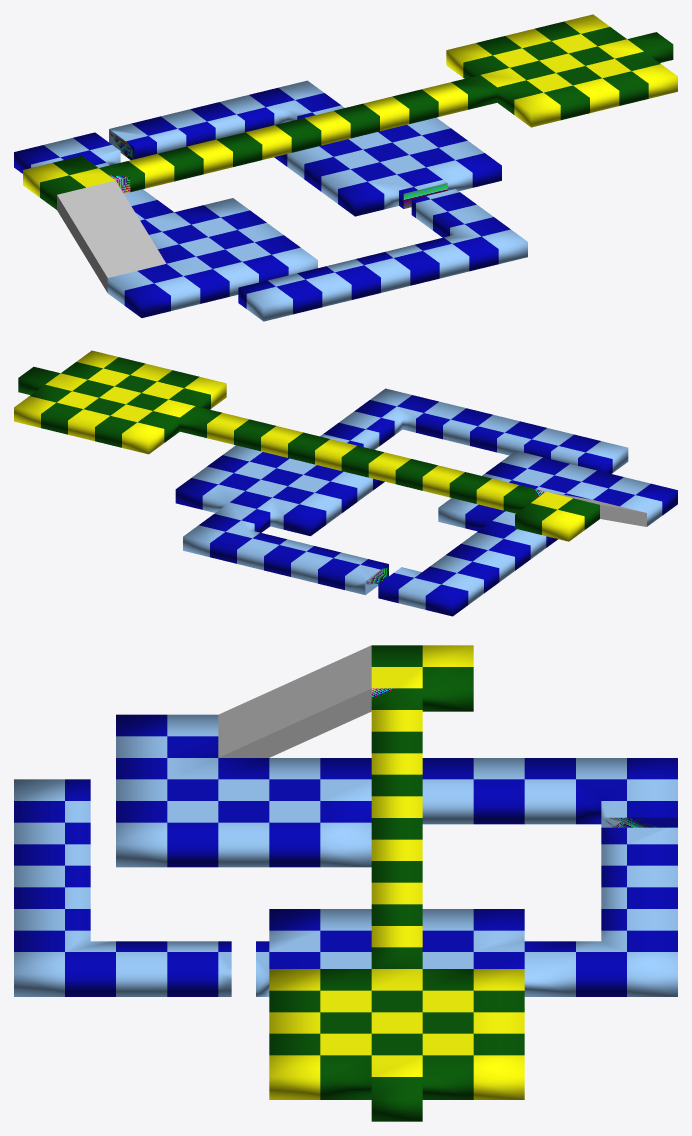
3 views of the same model, one above another, from view 1: azimuth 30°, elevation 25°; view 2: azimuth 150°, elevation 25°; view 3: azimuth 270°, elevation 25° (orthographic). The views are drawn at different scales.
Parts seen in each view (by area): view 1: Untitled; view 2: Untitled; view 3: Untitled.
Part boxes in pixels (x1,y1,x2,y2): Untitled: (14,14,677,321); Untitled: (14,350,677,616); Untitled: (14,645,677,1121).
Bounding box in the file's own units: 4.2 × 0.4 × 2.6.
1 material, 1 textured.
